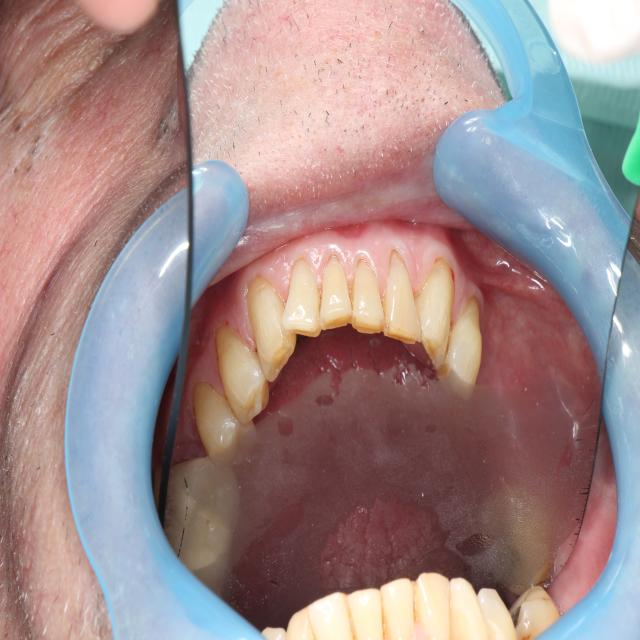tooth: (164, 441, 246, 576), (476, 475, 554, 596), (189, 374, 262, 474), (214, 320, 274, 427), (246, 270, 301, 384), (435, 286, 488, 400), (411, 247, 457, 375), (378, 239, 425, 351), (277, 256, 323, 343), (346, 257, 389, 338), (315, 247, 355, 334)
